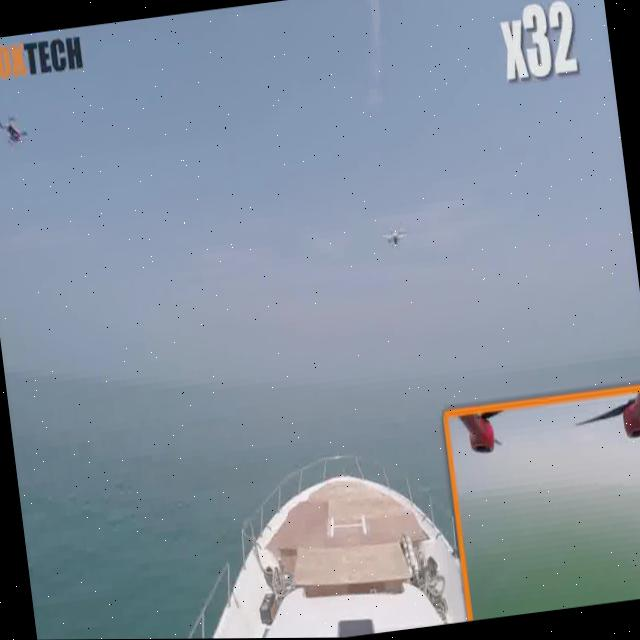drone: (0, 99, 41, 162), (376, 216, 414, 260)
